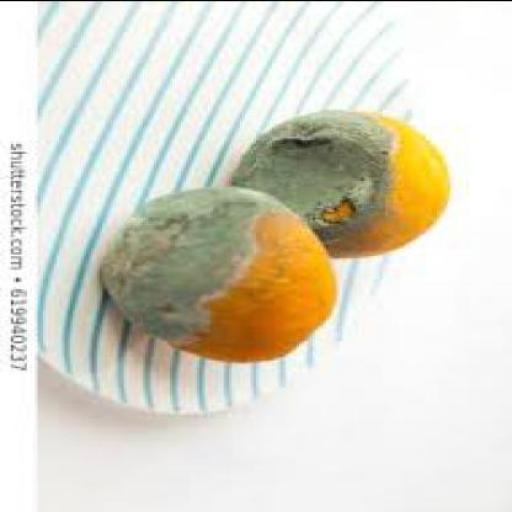biodegradable: (100, 182, 342, 360), (240, 106, 455, 256)
